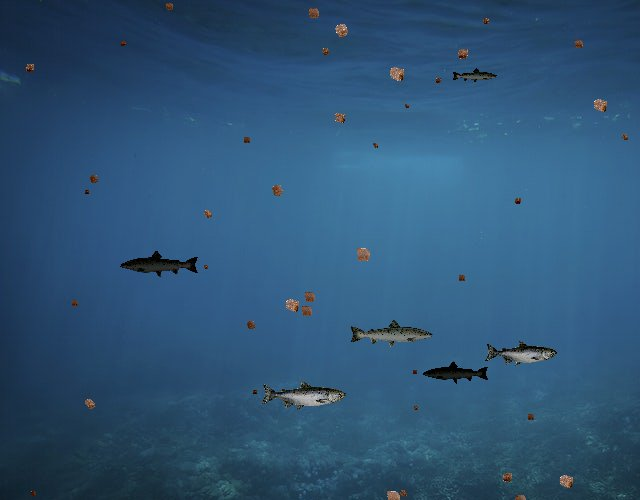Fish: (348, 318, 434, 349), (260, 380, 346, 411), (120, 249, 201, 278), (484, 341, 557, 367), (422, 360, 490, 385), (451, 67, 498, 84)
Pellet: (78, 393, 100, 415), (569, 35, 588, 54), (510, 194, 524, 208), (432, 75, 445, 88), (117, 38, 129, 50), (200, 262, 210, 272)
